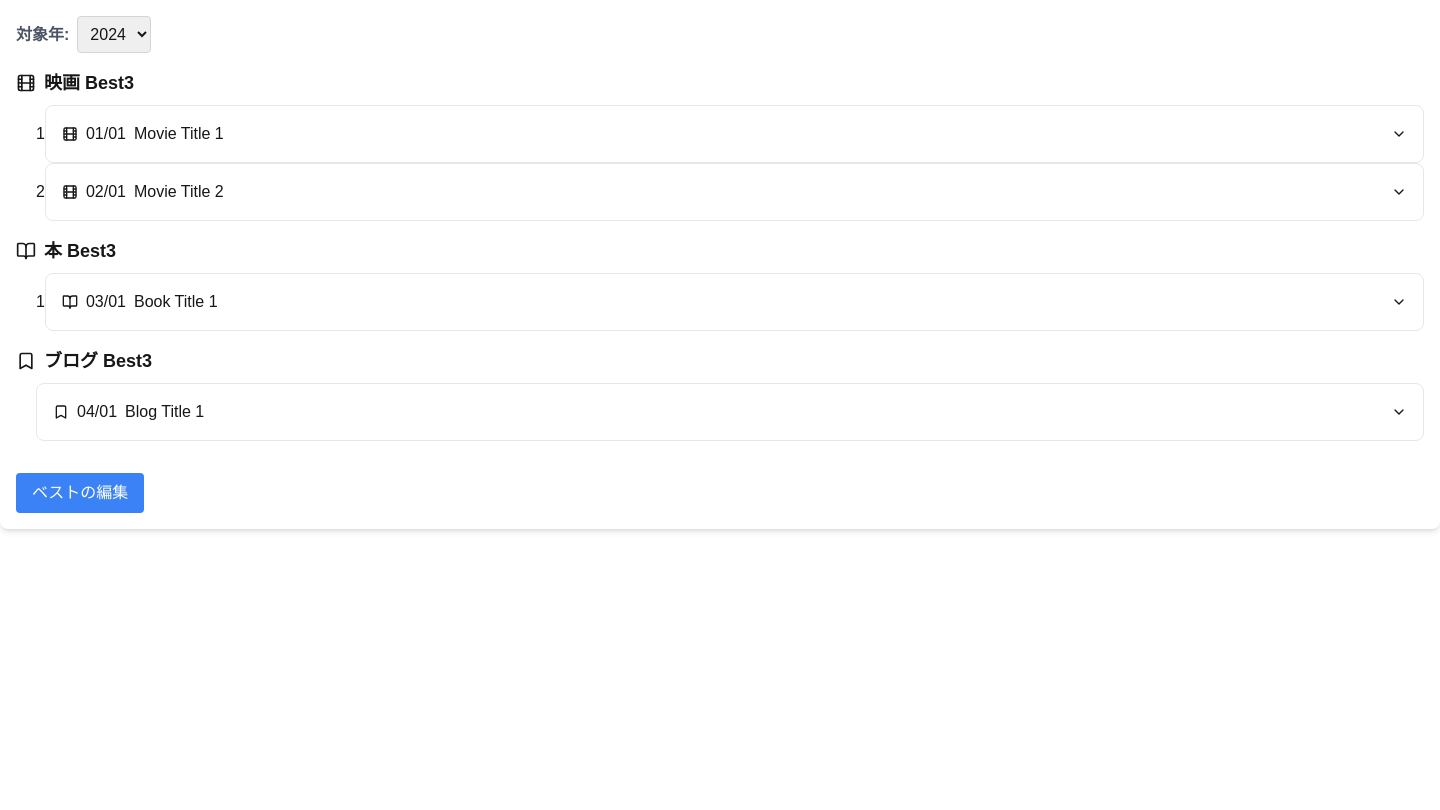
it: BestContentPage › 編集モード › 編集ボタンをクリックすると編集モードになる
This screenshot has width=1440, height=810.
Click the button "ベストの編集": (80, 493) [16,473,144,513]
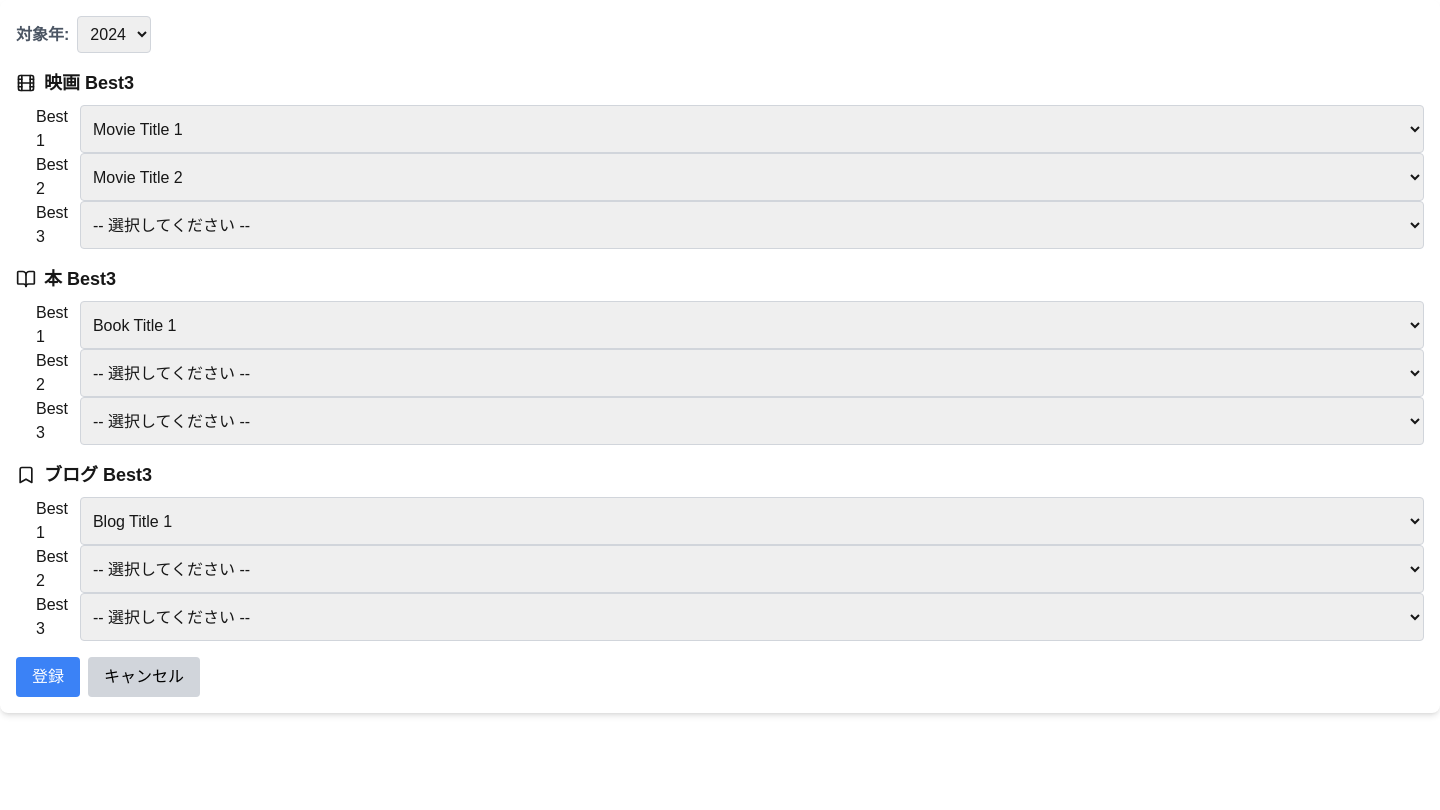
Expected: the button "登録" is shown, [16,657,80,697]
Expected: the button "キャンセル" is shown, [88,657,200,697]
